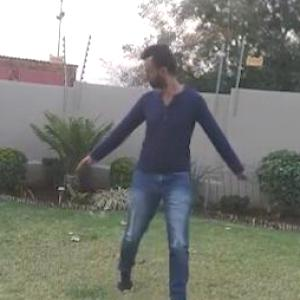land: (72, 33, 284, 299)
